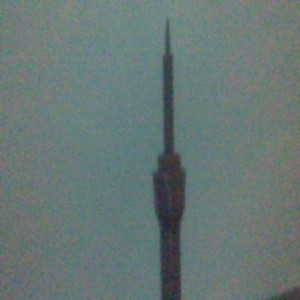solder: (151, 17, 187, 300)
